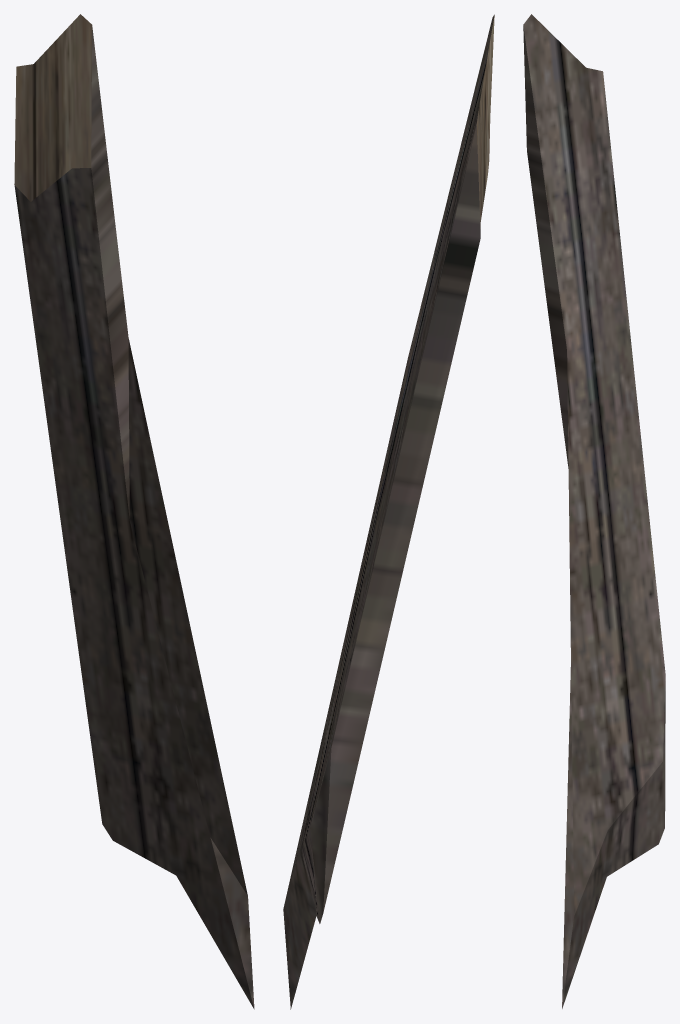
The model's file is shackwall01_dmg04_d.glb.
The picture shows the model from 3 angles, left to right: view 1: azimuth 30°, elevation 25°; view 2: azimuth 150°, elevation 25°; view 3: azimuth 270°, elevation 25°; orthographic projection. The views are drawn at different scales.
Parts seen in each view (by area): view 1: shackwall01_dmg04_d; view 2: shackwall01_dmg04_d; view 3: shackwall01_dmg04_d.
Boxes of the visible parts, x1,y1,x2,y2 form: shackwall01_dmg04_d: [14, 14, 254, 1009]; shackwall01_dmg04_d: [283, 14, 494, 1009]; shackwall01_dmg04_d: [523, 14, 665, 1008].
Bounding box in the file's own units: 0.1591 × 0.7359 × 0.1038.
1 material, 1 textured.
